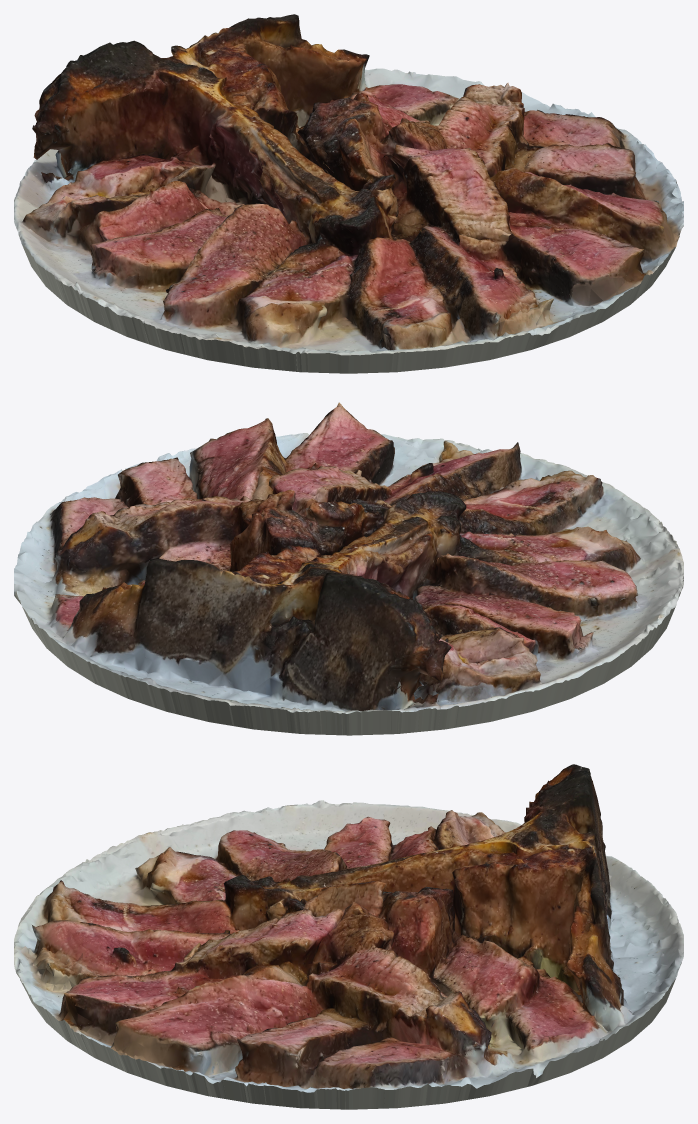
The model's file is steak-fiorentina-tbone-android.glb.
The picture shows the model from 3 angles, top to bottom: view 1: azimuth 30°, elevation 25°; view 2: azimuth 150°, elevation 25°; view 3: azimuth 270°, elevation 25°; orthographic projection.
Parts seen in each view (by area): view 1: FlorenceSteak_Model_3, FlorenceSteak_Model_3.001; view 2: FlorenceSteak_Model_3, FlorenceSteak_Model_3.001; view 3: FlorenceSteak_Model_3, FlorenceSteak_Model_3.001.
Part boxes in pixels (x1,y1,x2,y2): FlorenceSteak_Model_3: (14,14,683,355); FlorenceSteak_Model_3.001: (19,72,683,373); FlorenceSteak_Model_3: (14,402,683,713); FlorenceSteak_Model_3.001: (15,437,682,735); FlorenceSteak_Model_3: (14,764,683,1092); FlorenceSteak_Model_3.001: (16,817,681,1109).
Bounding box in the file's own units: 0.25 × 0.0673 × 0.2493.
Materials: 2 (1 with a texture image).
